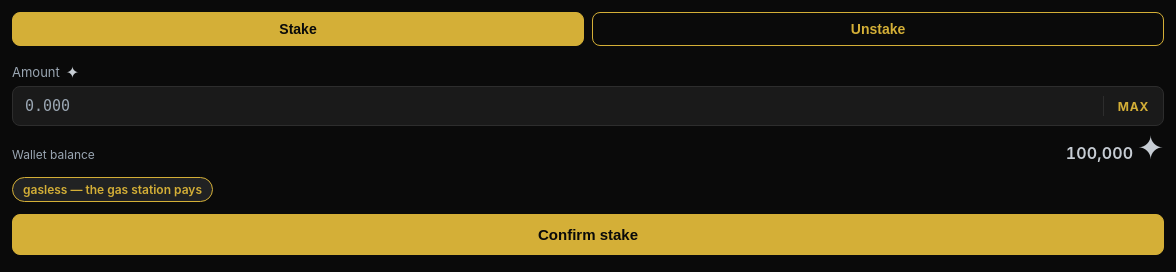
StakeUnstakeUrStoaModal — result panel › STAKE mode shows the wallet balance; UNSTAKE mode shows the vault stake
This screenshot has width=1176, height=272.
Expected: the element with test id "stake-balance" shows "Wallet balance", x1=12 y1=147 x2=95 y2=162
// Switching to unstake flips it to the user's VAULT stake.
Click the button with test id "stake-mode-unstake": (878, 29) x1=592 y1=12 x2=1164 y2=46
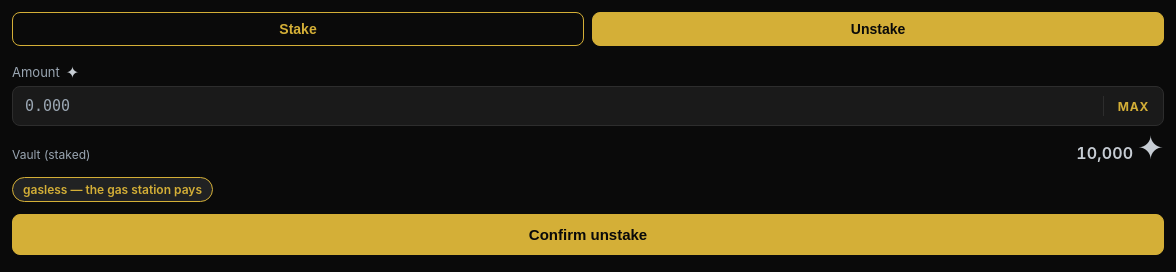
Now the element with test id "stake-balance" shows "Vault (staked)", box x1=12 y1=147 x2=90 y2=162
